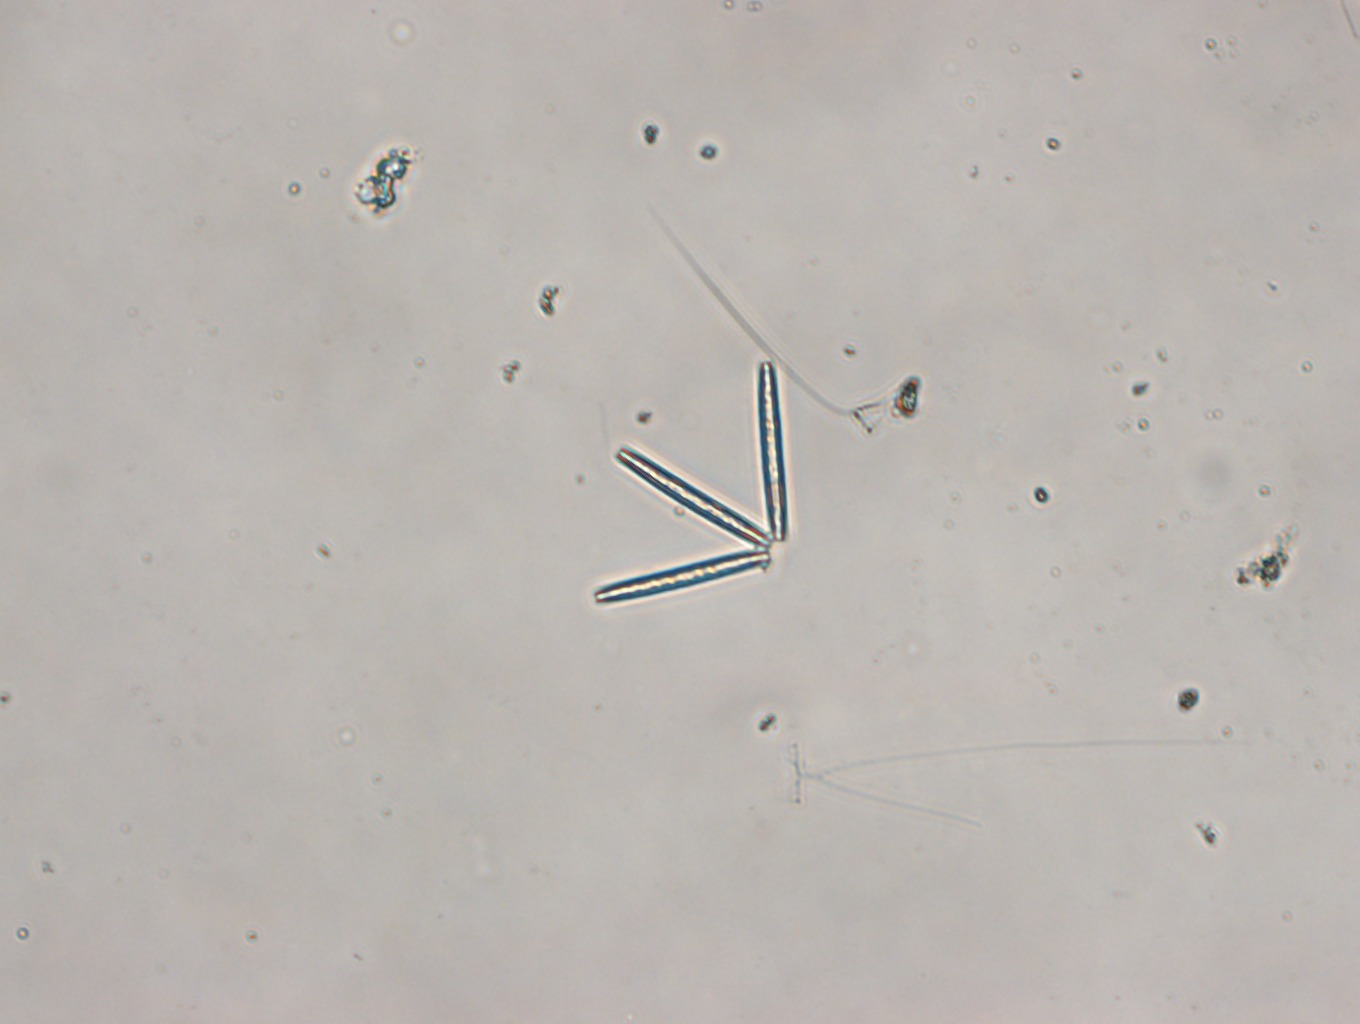thalassionema nitzschioides: (585, 357, 790, 607)
